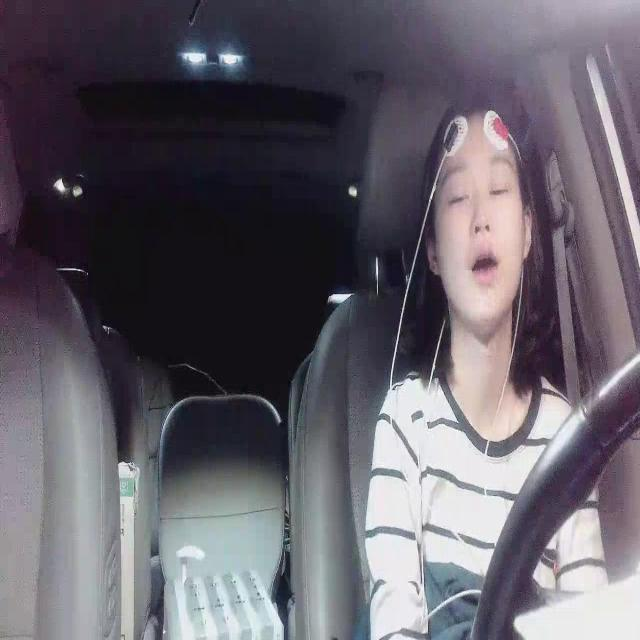Inattentive: (423, 96, 534, 337)
